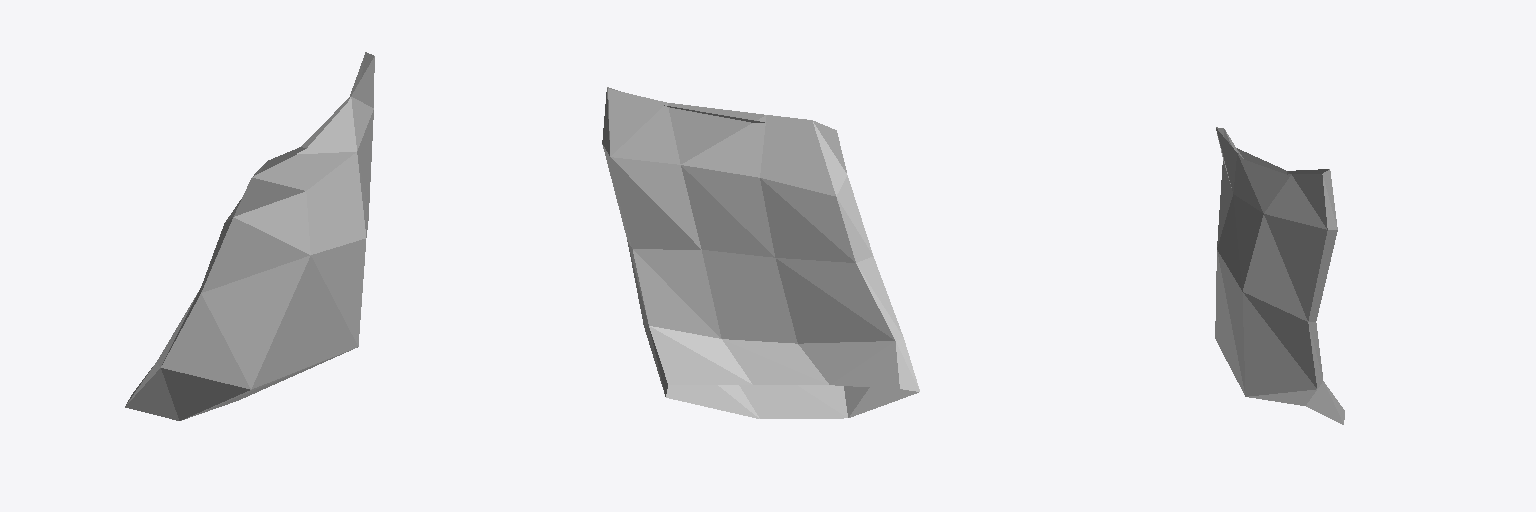
Rendered from Mentalis_Muscle_Left.obj.
The picture shows the model from 3 angles: view 1: azimuth 30°, elevation 25°; view 2: azimuth 150°, elevation 25°; view 3: azimuth 270°, elevation 25°; orthographic projection.
Parts seen in each view (by area): view 1: Mentalis_Muscle_Left1_Mesh group1; view 2: Mentalis_Muscle_Left1_Mesh group1; view 3: Mentalis_Muscle_Left1_Mesh group1.
Part boxes in pixels (left/top/right/bottom): Mentalis_Muscle_Left1_Mesh group1: left=125, top=52, right=374, bottom=420; Mentalis_Muscle_Left1_Mesh group1: left=602, top=87, right=919, bottom=418; Mentalis_Muscle_Left1_Mesh group1: left=1215, top=127, right=1344, bottom=424.
Size of the model in its own units: 0.328 by 0.3376 by 0.1298.